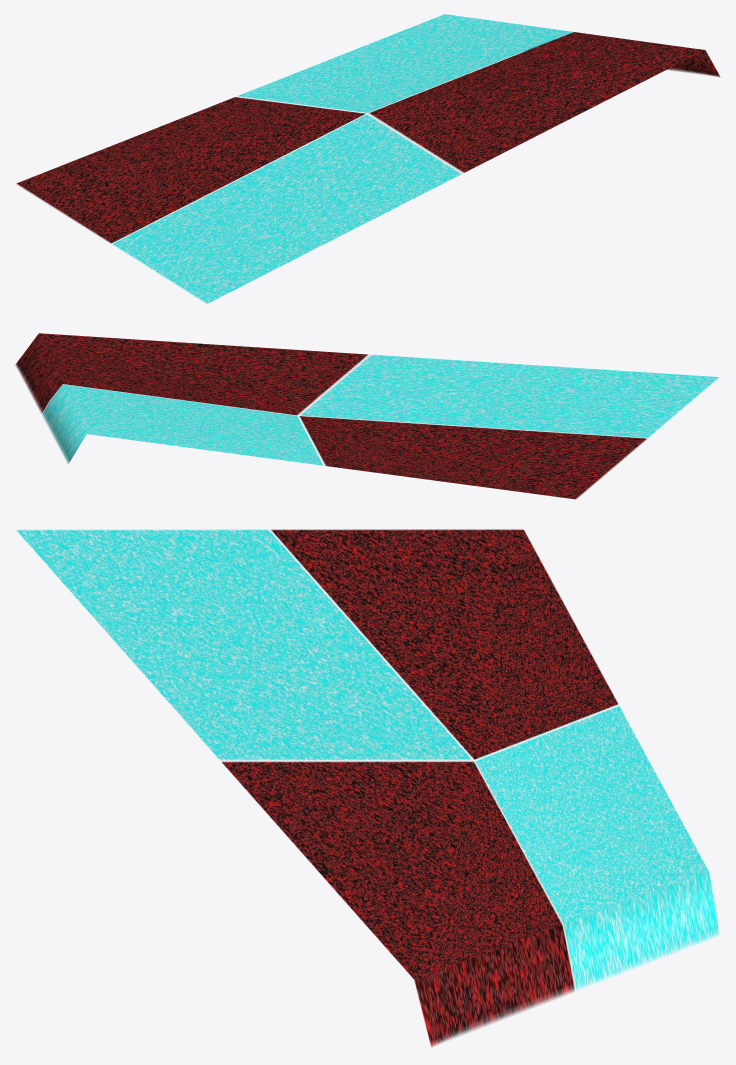
3 renders of one model, top to bottom at view 1: azimuth 30°, elevation 25°; view 2: azimuth 150°, elevation 25°; view 3: azimuth 270°, elevation 25°, orthographic. The views are drawn at different scales.
Visible parts, largest first — view 1: SM_VFX_GF_River03_LOD0; view 2: SM_VFX_GF_River03_LOD0; view 3: SM_VFX_GF_River03_LOD0.
Boxes of the visible parts, x1,y1,x2,y2 form: SM_VFX_GF_River03_LOD0: (16,14,719,303); SM_VFX_GF_River03_LOD0: (15,333,719,499); SM_VFX_GF_River03_LOD0: (16,529,719,1047).
Size of the model in its own units: 57.54 by 3.52 by 36.53.
Materials: 1 (1 with a texture image).
